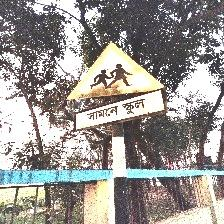School-in-front: (67, 42, 166, 132)
